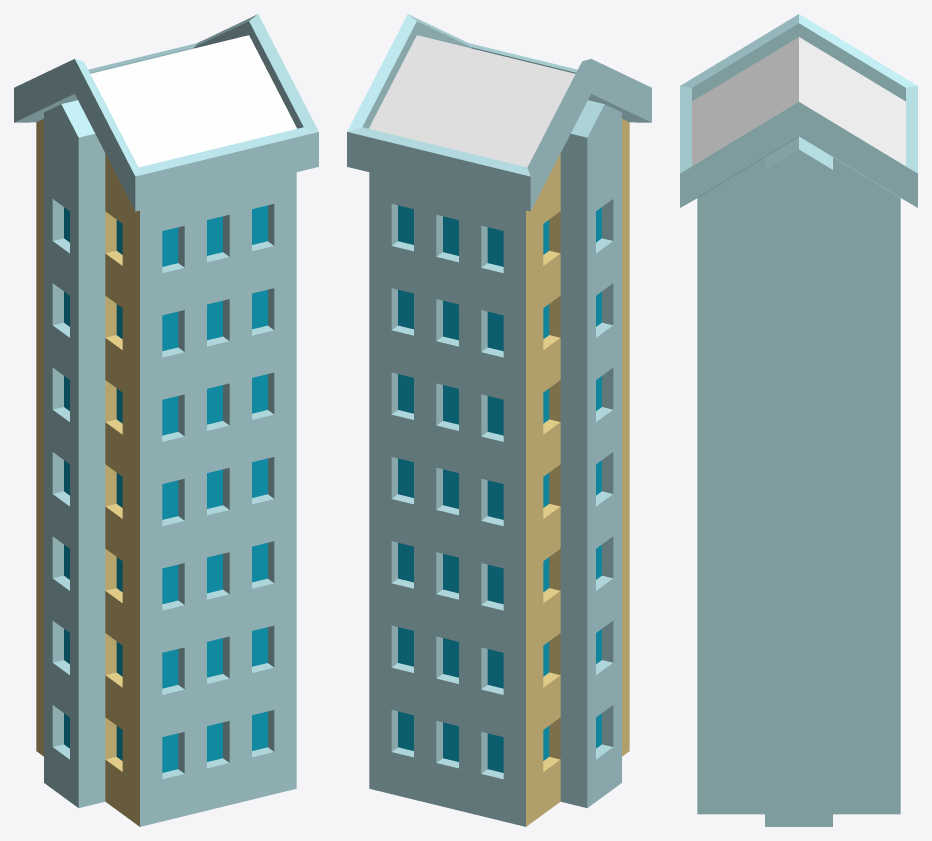
Rendered from blok.fbx.
3 renders of one model, left to right at view 1: azimuth 30°, elevation 25°; view 2: azimuth 150°, elevation 25°; view 3: azimuth 270°, elevation 25°, orthographic. The views are drawn at different scales.
Parts seen in each view (by area): view 1: Cube; view 2: Cube; view 3: Cube.
Boxes of the visible parts, <box> form: Cube: <box>14,14,318,826</box>; Cube: <box>347,14,651,826</box>; Cube: <box>680,14,917,826</box>.
Size of the model in its own units: 1500 by 5000 by 1500.
